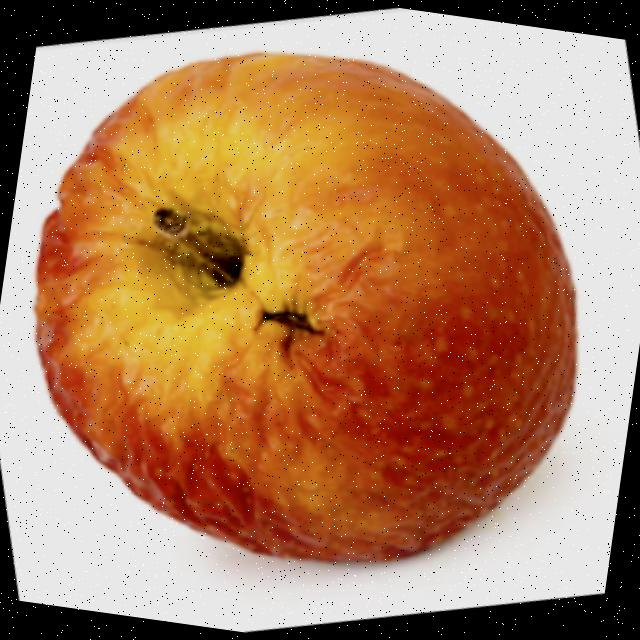overripe: (0, 12, 623, 605)
